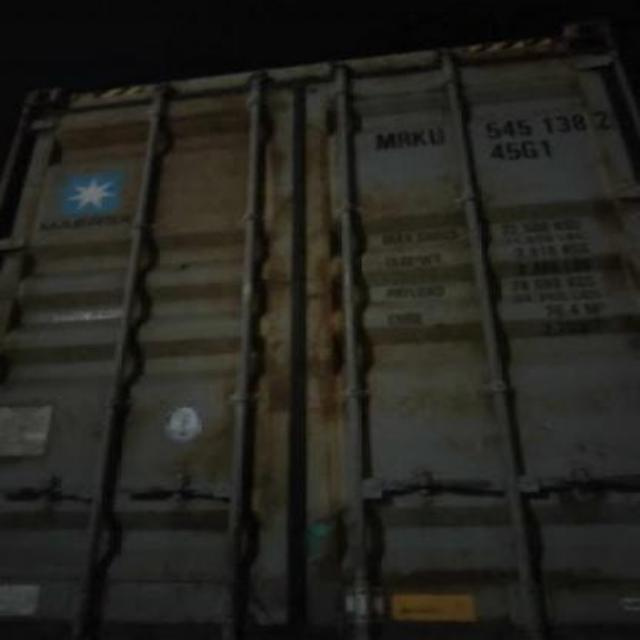1: (540, 114, 556, 136)
2: (592, 108, 616, 128)
3: (552, 112, 574, 134)
4: (502, 116, 518, 140)
5: (480, 117, 504, 141), (516, 118, 534, 138)
8: (570, 108, 588, 132)
K: (410, 129, 430, 153)
M: (372, 130, 398, 152)
R: (396, 128, 412, 152)
U: (426, 124, 450, 146)
